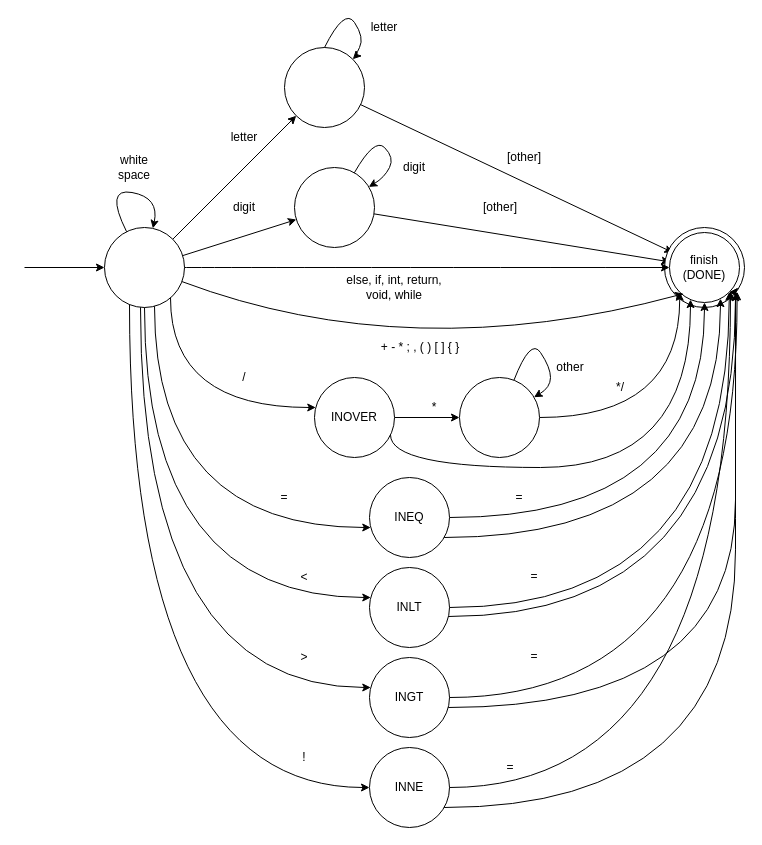
Image size: 762x845. Some labels were removed from this diagram. Each missing label, with the centre of its shape:
"comment (INCOMMENT)" belongs at point (499, 417).
"id (INID)" belongs at point (324, 87).
"num (INNUM)" belongs at point (334, 207).
"START" belongs at point (144, 267).
